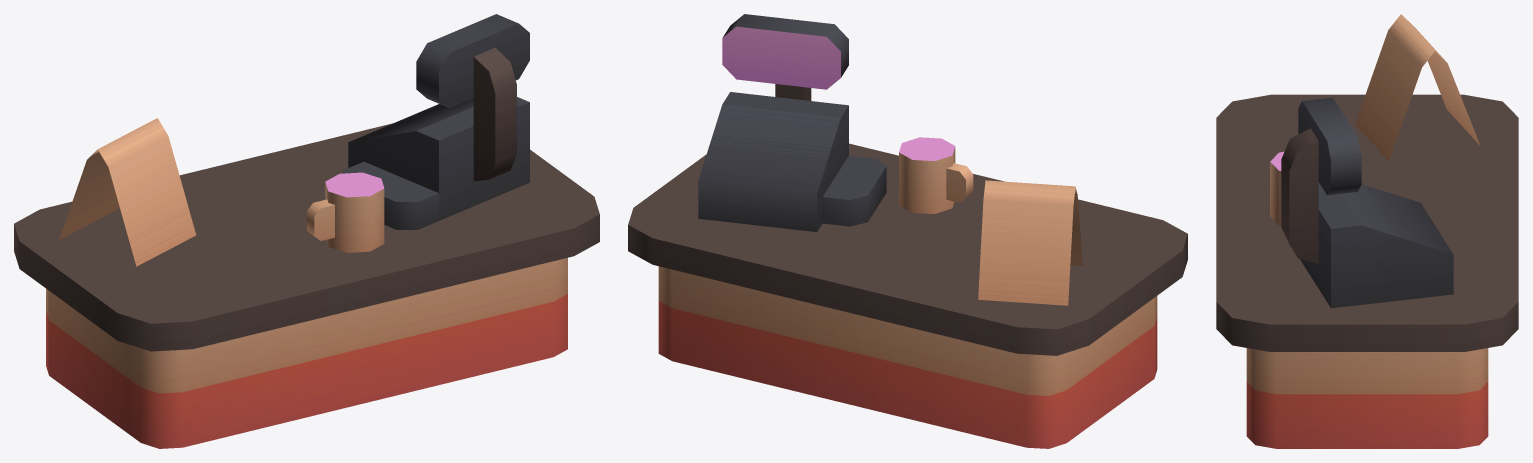
The model's file is cash-register.glb.
The picture shows the model from 3 angles, left to right: view 1: azimuth 30°, elevation 25°; view 2: azimuth 150°, elevation 25°; view 3: azimuth 270°, elevation 25°; orthographic projection. The views are drawn at different scales.
Parts seen in each view (by area): view 1: cash-register; view 2: cash-register; view 3: cash-register.
Part boxes in pixels (x1,y1,x2,y2): cash-register: (14,14,599,448); cash-register: (628,14,1187,448); cash-register: (1216,14,1518,448).
Bounding box in the file's own units: 0.9 × 0.5449 × 0.5.
Materials: 1 (1 with a texture image).
